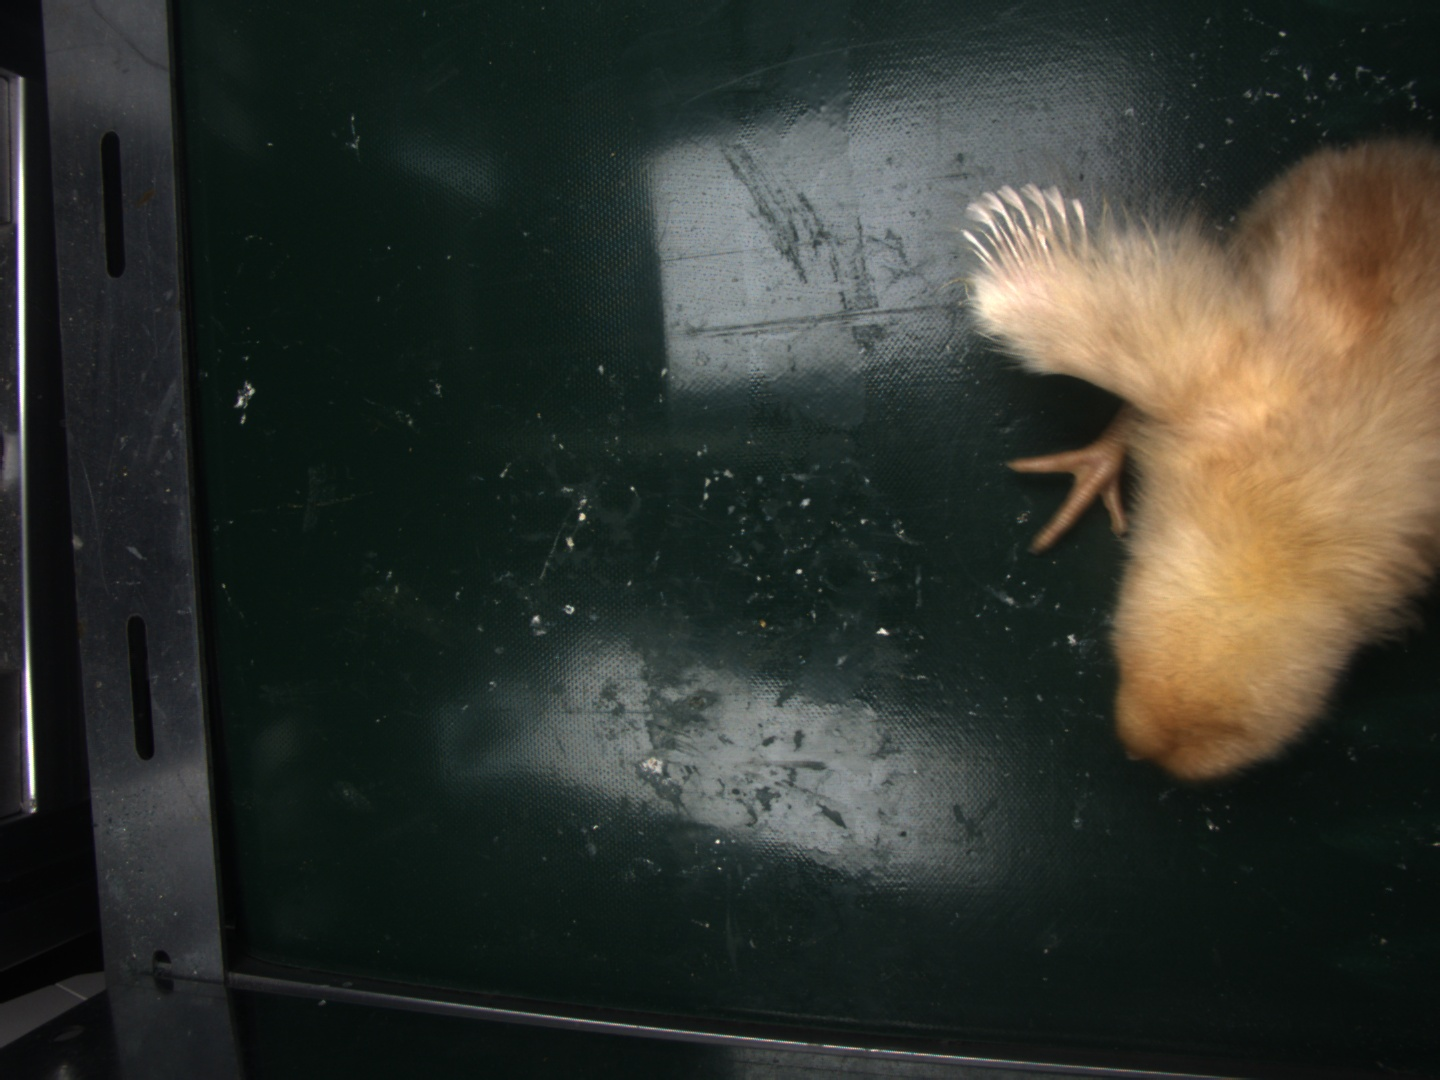female: (962, 183, 1084, 273)
